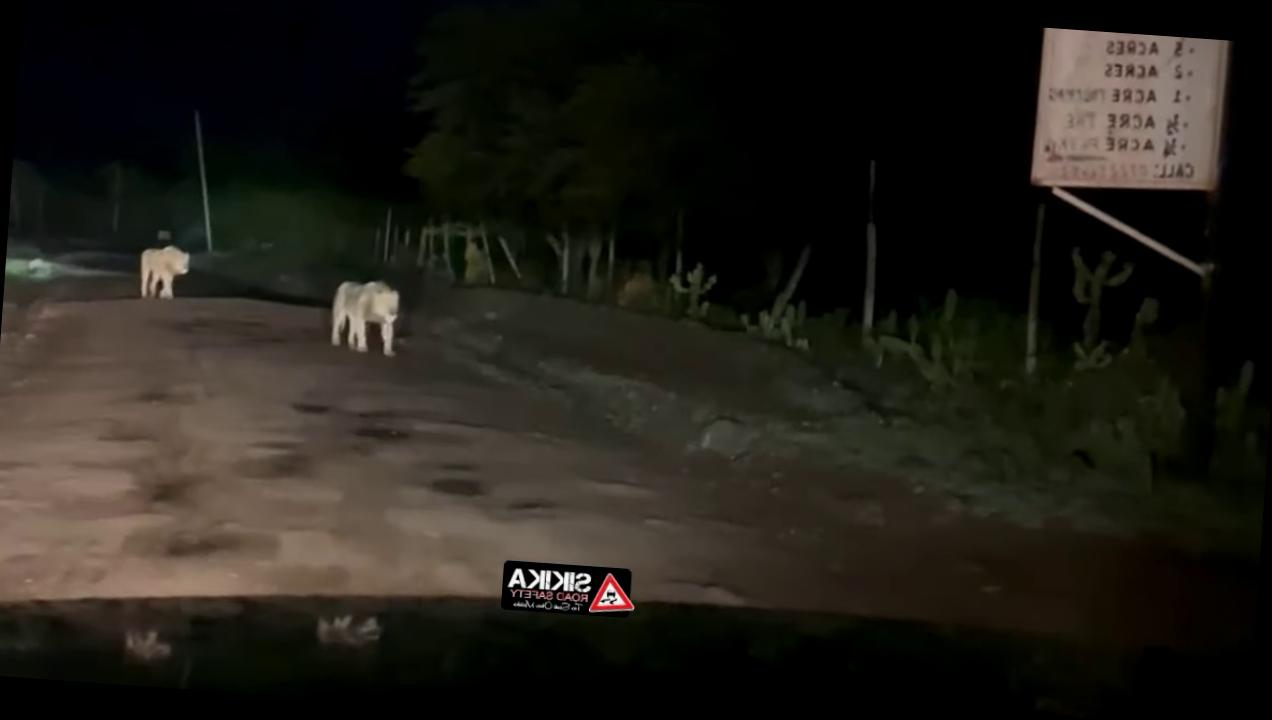lions: (306, 266, 418, 357), (100, 228, 204, 320)
